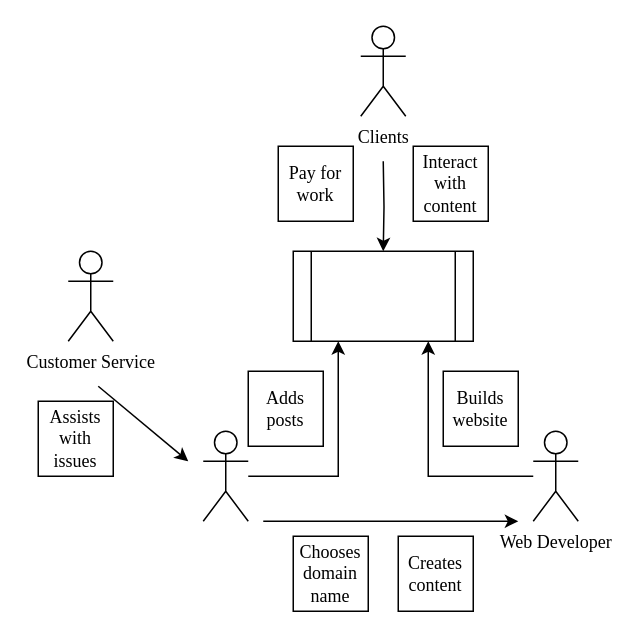
This 638x638 diagram has some shape labels left out. Each missing label, with the centre of its shape:
Artist: pixel 225 475
Portfolio Website: pixel 382 295
